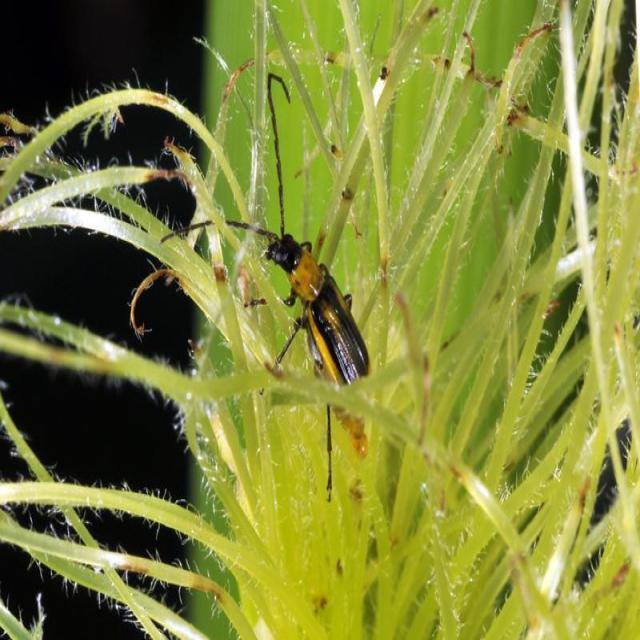trips: (160, 74, 372, 503)
